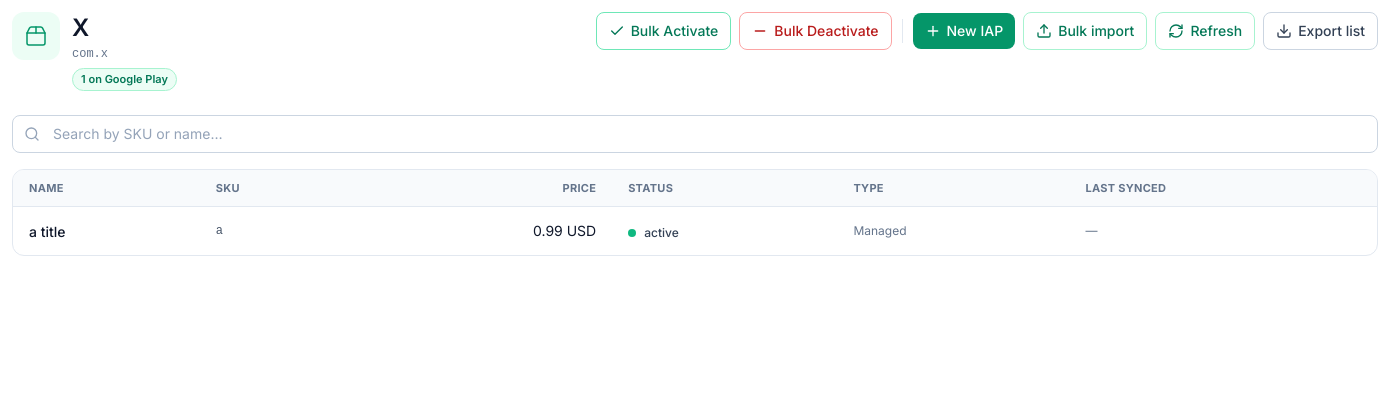
Test: IapListClient — Refresh that did not count as complete › shows the server's warning in amber next to the summary
Click the button "Refresh" at (1205, 31), box top-left (1155, 12), bottom-right (1255, 50)
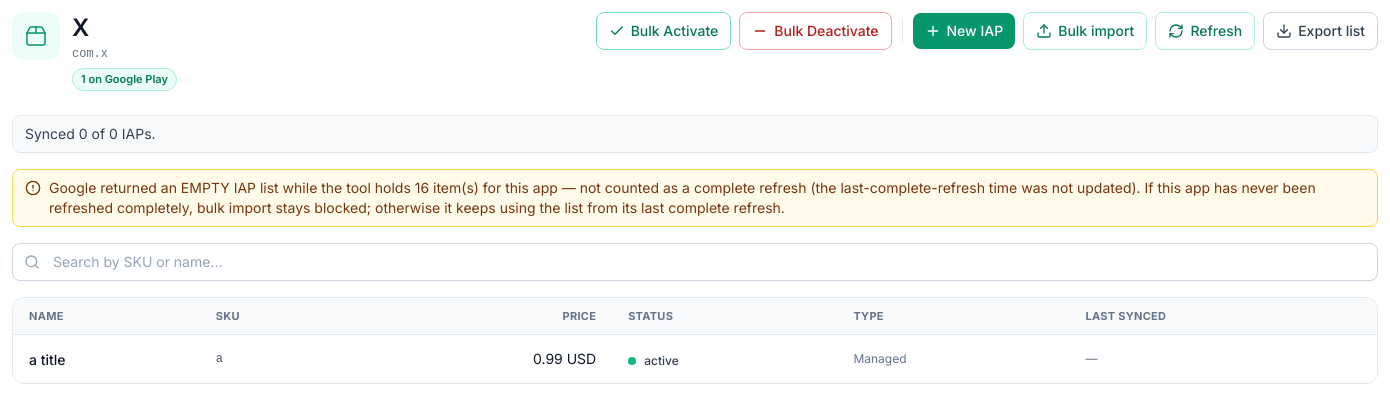
Expected: the element with test id "refresh-mirror-warning" shows "EMPTY IAP list while the tool holds 16 item(s)", top-left (49, 178), bottom-right (1316, 216)
